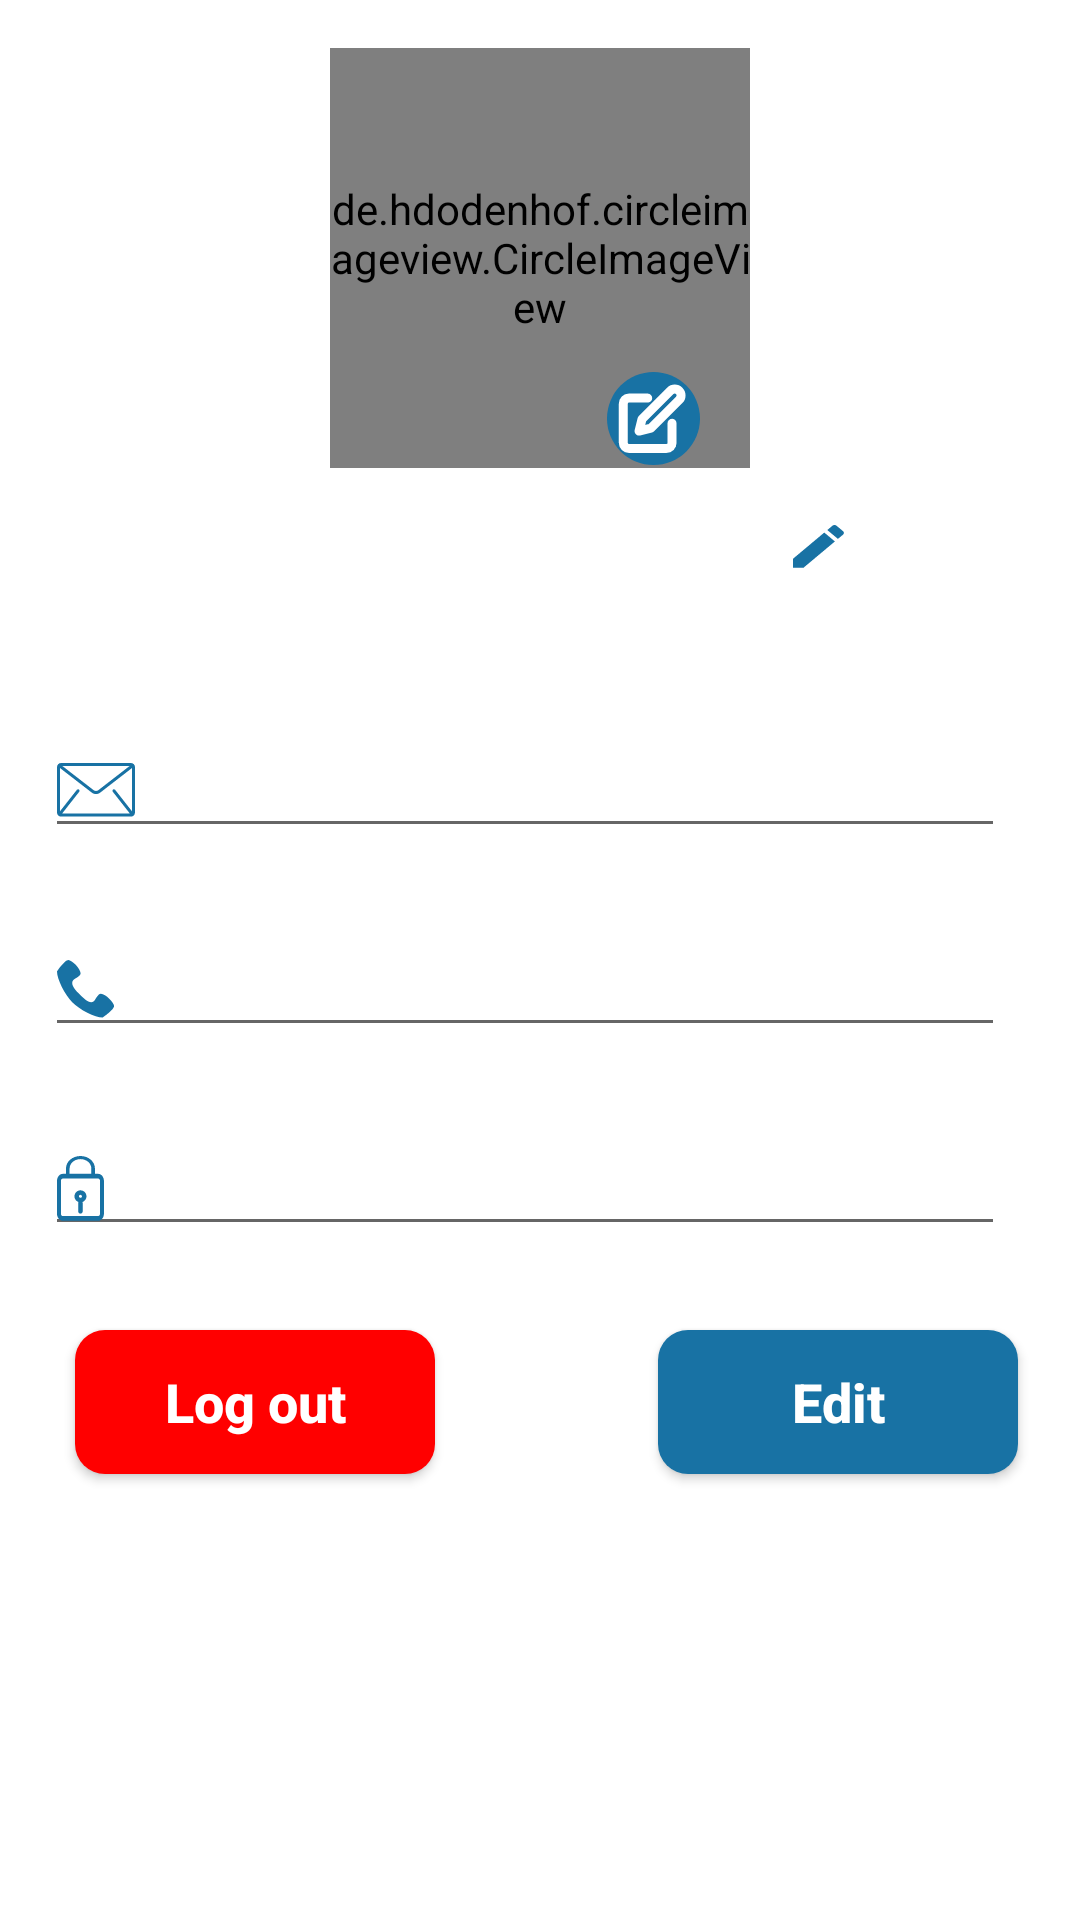

Where to tap for icons on this 1080w x 1920h app screen, as [x,y]:
edit: [818,546]
